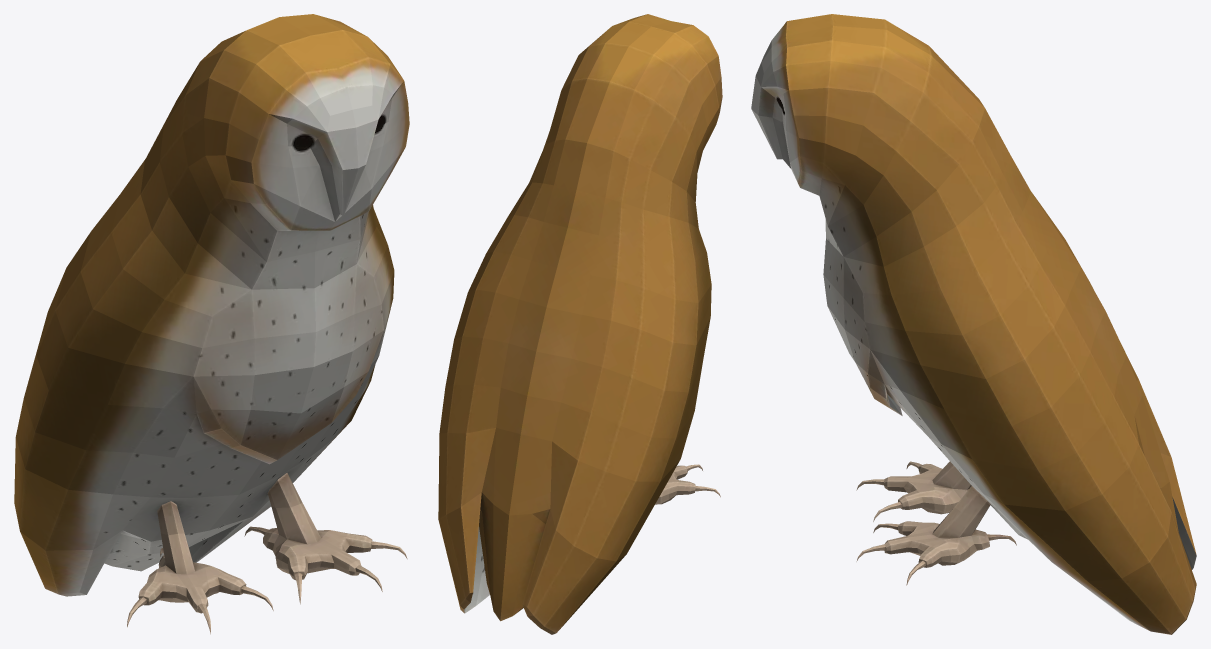
File: 7BGjfcacWkz.glb
The picture shows the model from 3 angles, left to right: view 1: azimuth 30°, elevation 25°; view 2: azimuth 150°, elevation 25°; view 3: azimuth 270°, elevation 25°; orthographic projection. The views are drawn at different scales.
Visible parts, largest first — view 1: BarnOwl_mesh; view 2: BarnOwl_mesh; view 3: BarnOwl_mesh.
Boxes of the visible parts, x1,y1,x2,y2 form: BarnOwl_mesh: (14, 14, 409, 634); BarnOwl_mesh: (438, 14, 722, 634); BarnOwl_mesh: (751, 14, 1196, 634).
Size of the model in its own units: 0.4783 by 1 by 0.6916.
Materials: 1 (1 with a texture image).
